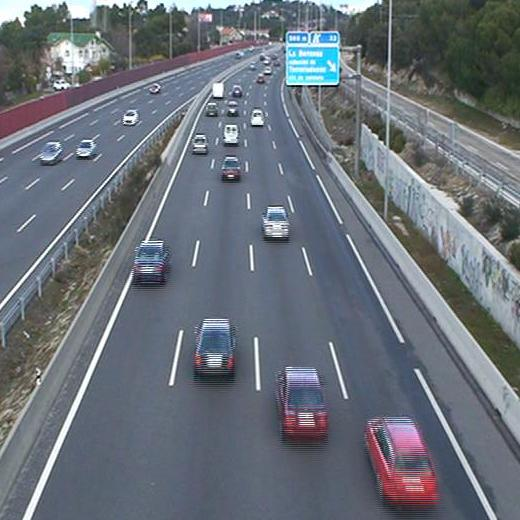car: (367, 417, 437, 505), (280, 367, 326, 435), (195, 317, 234, 374), (134, 242, 166, 279), (262, 205, 290, 241), (221, 155, 241, 182), (191, 132, 208, 154), (251, 108, 264, 127), (205, 104, 218, 118), (231, 84, 243, 98), (226, 103, 238, 116), (255, 73, 266, 84)
van: (222, 124, 240, 145), (212, 82, 226, 98)
